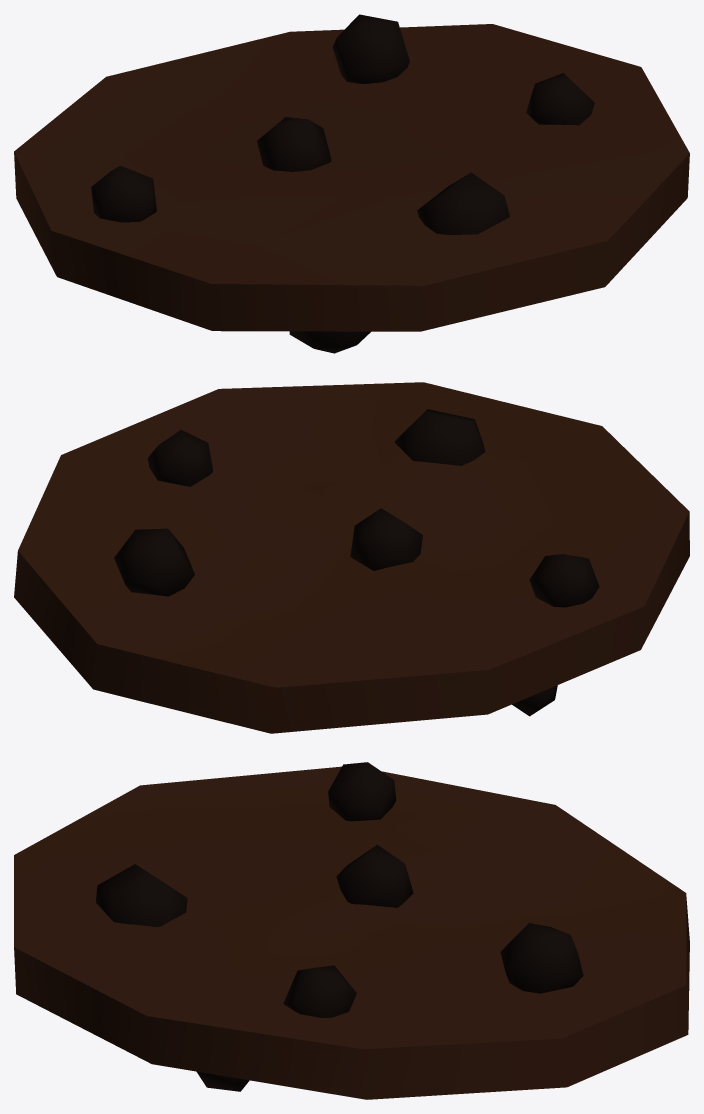
Rendered from galleta.FBX.
3 views of the same model, one above another, from view 1: azimuth 30°, elevation 25°; view 2: azimuth 150°, elevation 25°; view 3: azimuth 270°, elevation 25° (orthographic). The views are drawn at different scales.
Visible parts, largest first — view 1: galleta; view 2: galleta; view 3: galleta.
Part boxes in pixels (x1=…): galleta: x1=14, y1=14, x2=689, y2=353; galleta: x1=14, y1=382, x2=689, y2=733; galleta: x1=14, y1=762, x2=689, y2=1099.
Size of the model in its own units: 0.4031 by 0.1017 by 0.3826.
